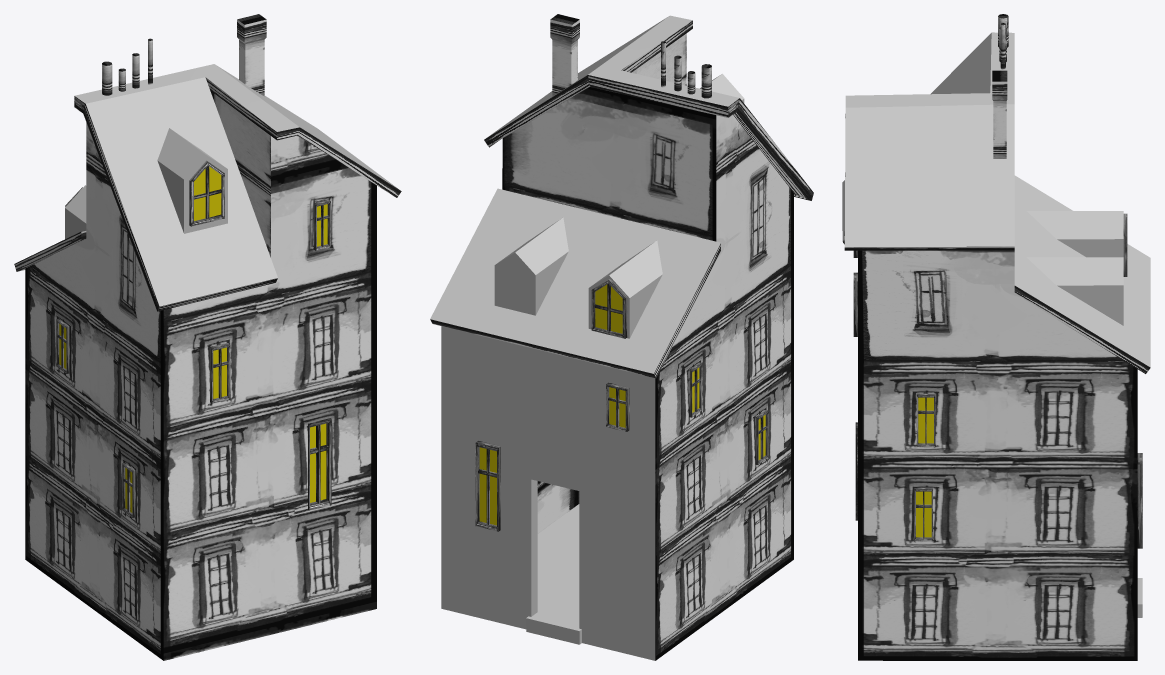
File: House04.fbx
3 renders of one model, left to right at view 1: azimuth 30°, elevation 25°; view 2: azimuth 150°, elevation 25°; view 3: azimuth 270°, elevation 25°, orthographic.
Visible parts, largest first — view 1: House04; view 2: House04; view 3: House04.
Boxes of the visible parts, bbox=[...] form: House04: bbox=[14, 14, 401, 660]; House04: bbox=[430, 14, 813, 660]; House04: bbox=[842, 14, 1150, 660].
Bounding box in the file's own units: 10.15 × 22.04 × 11.
